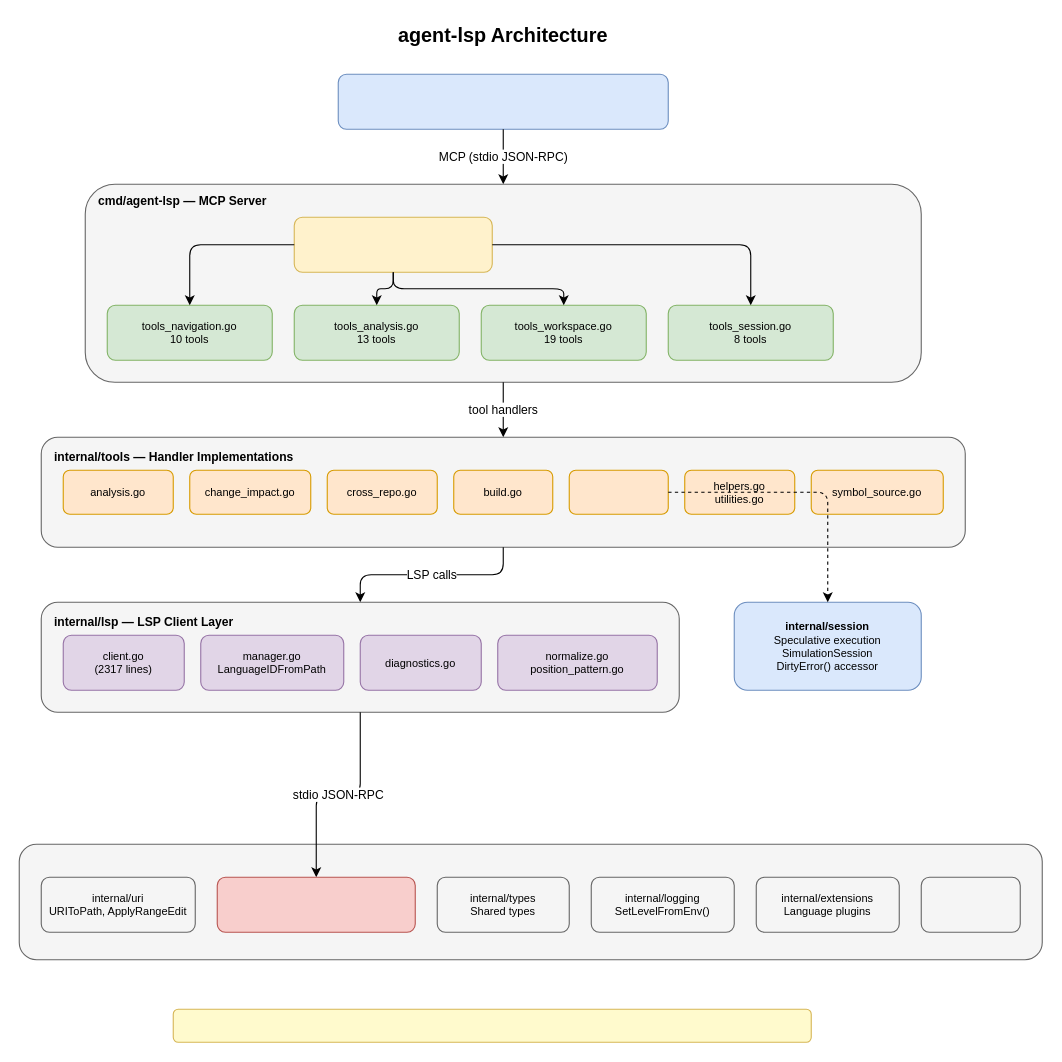
Some shapes in this 1062 by 1062 pixel diagram are drawn without their labels. The centre of each missing label's shape, as x and y in pixels:
"gopls (subprocess)" belongs at (x=315, y=904).
"internal/config" belongs at (x=970, y=904).
"Layer rule: cmd → internal/tools → internal/lsp → internal/uri/types/logging" belongs at (x=491, y=1025).
"MCP Client (AI Agent / Claude Code)" belongs at (x=502, y=101).
"server.go Run() + toolDeps" belongs at (x=392, y=244).
"session.go" belongs at (x=618, y=491).
